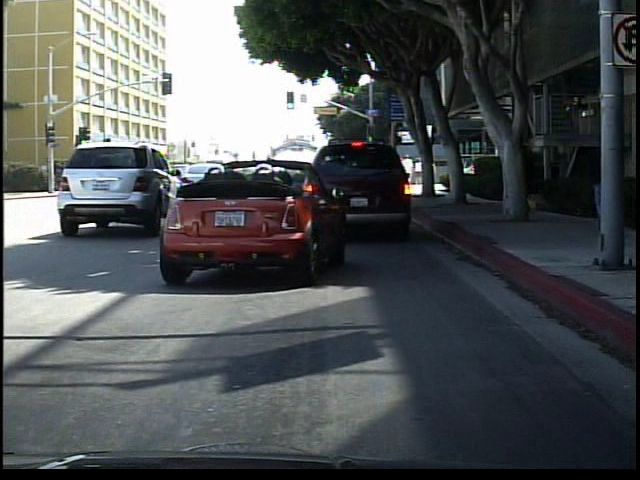person: (581, 132, 623, 239), (513, 141, 544, 223)
